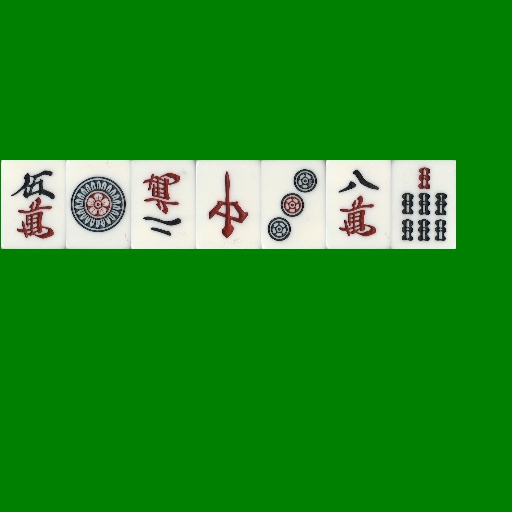1p: (66, 160, 131, 249)
2m: (131, 160, 196, 249)
3p: (261, 160, 326, 249)
5m: (1, 160, 66, 249)
7s: (391, 160, 456, 249)
8m: (326, 160, 391, 249)
tyun: (196, 160, 261, 249)
